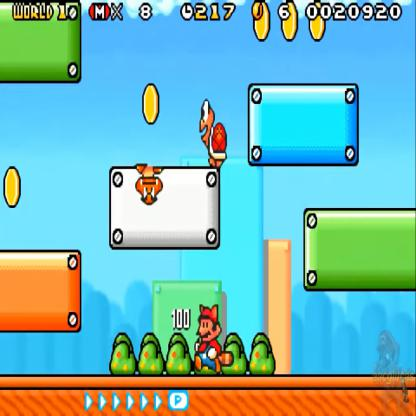Goomba: (134, 158, 164, 203)
Mario: (193, 300, 223, 378)
koopa: (195, 95, 229, 174)
moneda: (136, 78, 159, 129), (306, 2, 327, 52), (3, 161, 21, 207), (280, 0, 296, 47), (252, 4, 269, 39)
